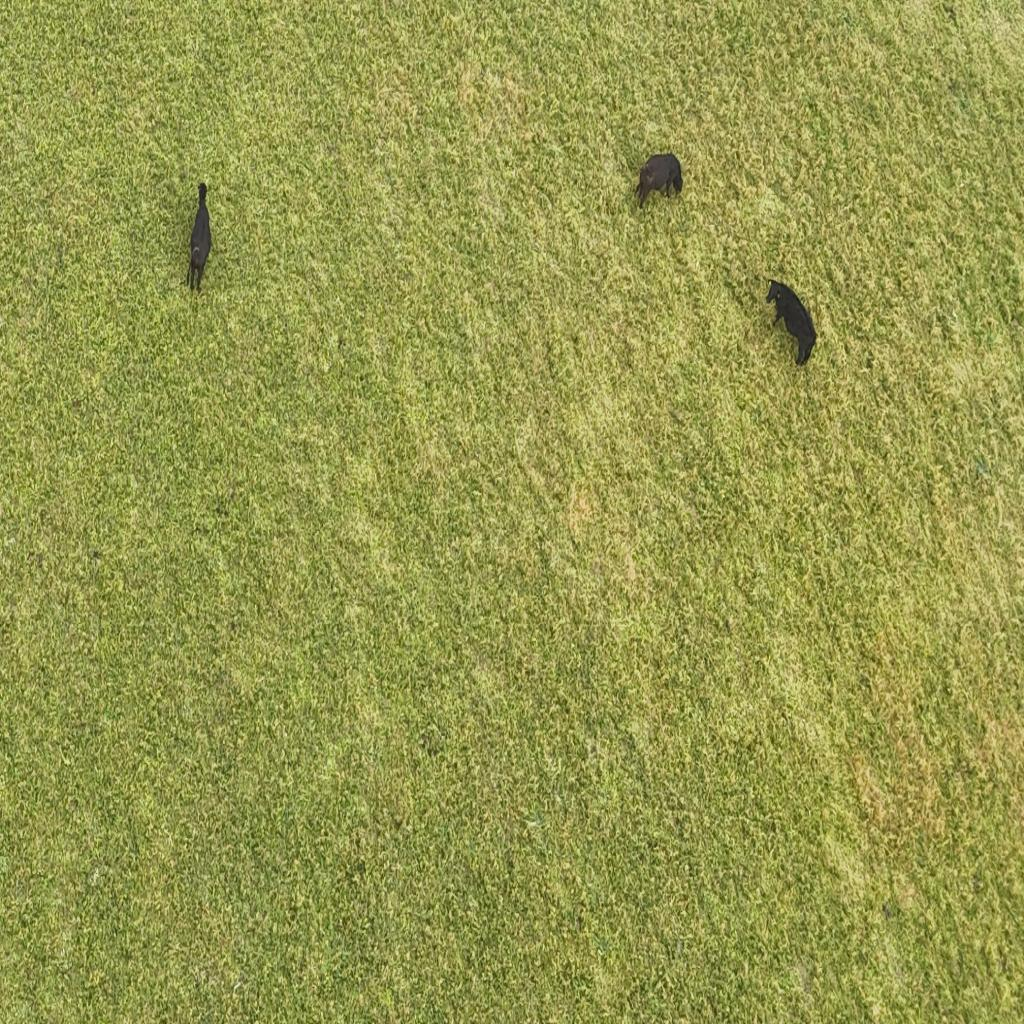cow: (764, 272, 822, 372), (177, 182, 211, 299), (632, 148, 684, 210)
